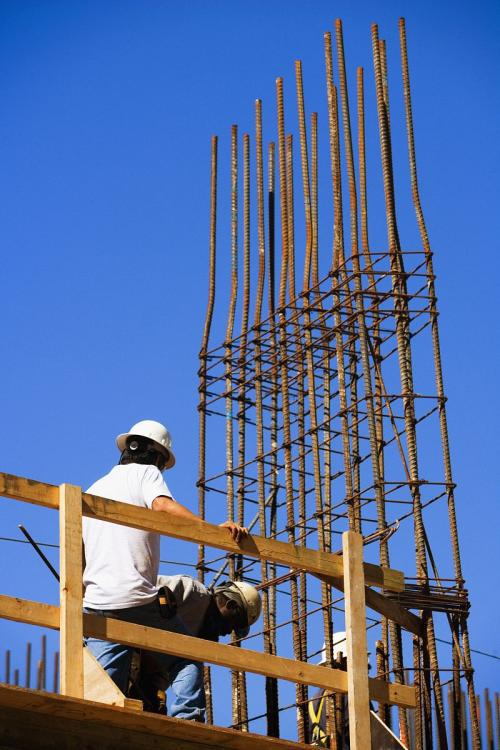helmet: (106, 414, 181, 480)
